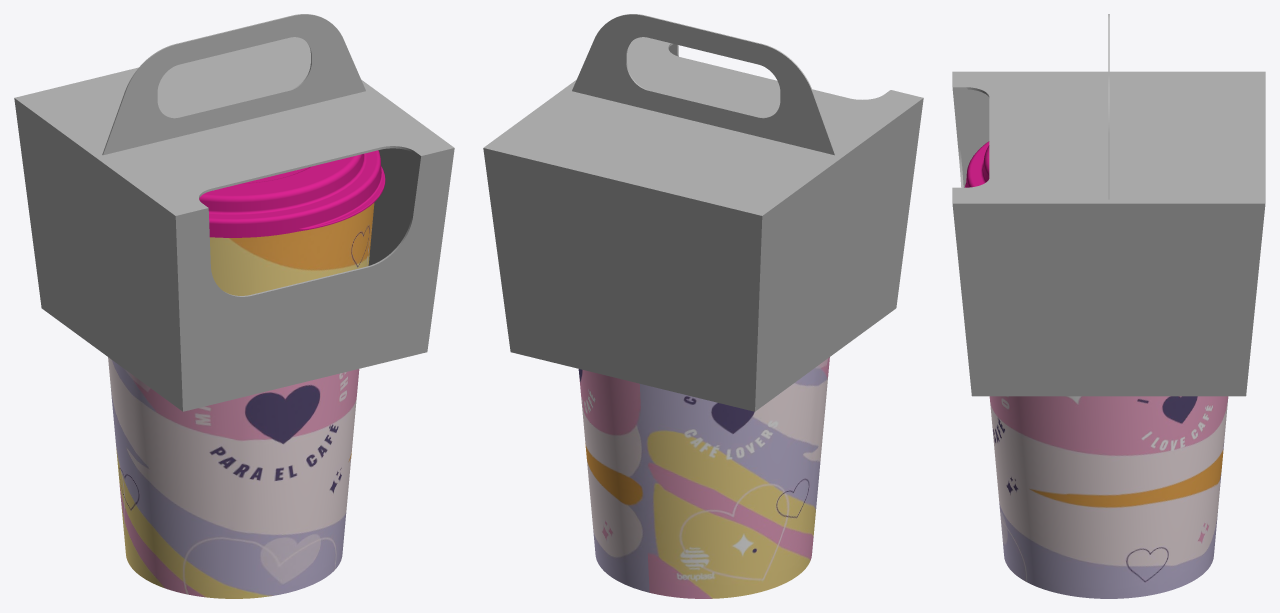
File: Sombrero_011.glb
3 renders of one model, left to right at view 1: azimuth 30°, elevation 25°; view 2: azimuth 150°, elevation 25°; view 3: azimuth 270°, elevation 25°, orthographic. The views are drawn at different scales.
Parts seen in each view (by area): view 1: object_2_n3d, object_1%2E002_n3d, object_1_n3d, tapa pico; view 2: object_2_n3d, object_1%2E002_n3d, object_1_n3d; view 3: object_2_n3d, object_1%2E002_n3d, tapa pico.
Part boxes in pixels (x1,y1,x2,y2): object_2_n3d: (14,37,454,411); object_1%2E002_n3d: (108,203,374,598); object_1_n3d: (102,14,365,155); tapa pico: (199,150,385,237); object_2_n3d: (483,37,923,411); object_1%2E002_n3d: (578,357,829,598); object_1_n3d: (572,14,835,155); object_2_n3d: (952,71,1265,396); object_1%2E002_n3d: (989,396,1228,598); tapa pico: (964,141,989,187).
Bounding box in the file's own units: 1.27 × 2.27 × 1.27.
3 materials, 1 textured.
